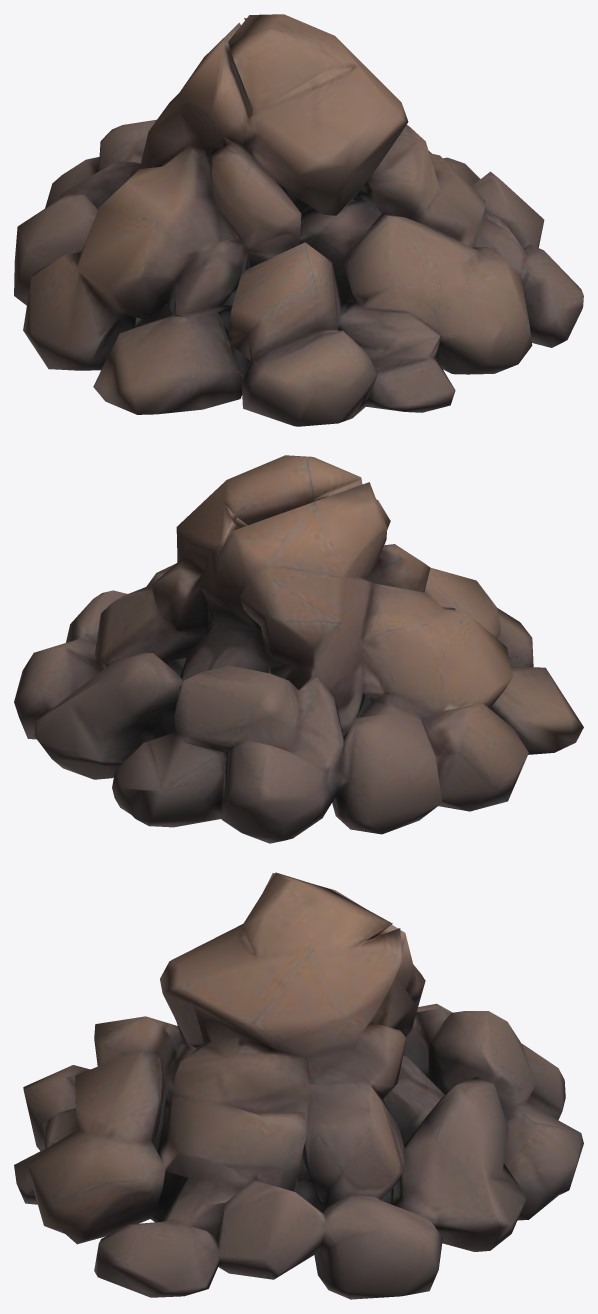
File: rock-pile.lod.glb
3 renders of one model, top to bottom at view 1: azimuth 30°, elevation 25°; view 2: azimuth 150°, elevation 25°; view 3: azimuth 270°, elevation 25°, orthographic. The views are drawn at different scales.
Size of the model in its own units: 1.9 by 1.1 by 1.88.
Materials: 1 (1 with a texture image).
